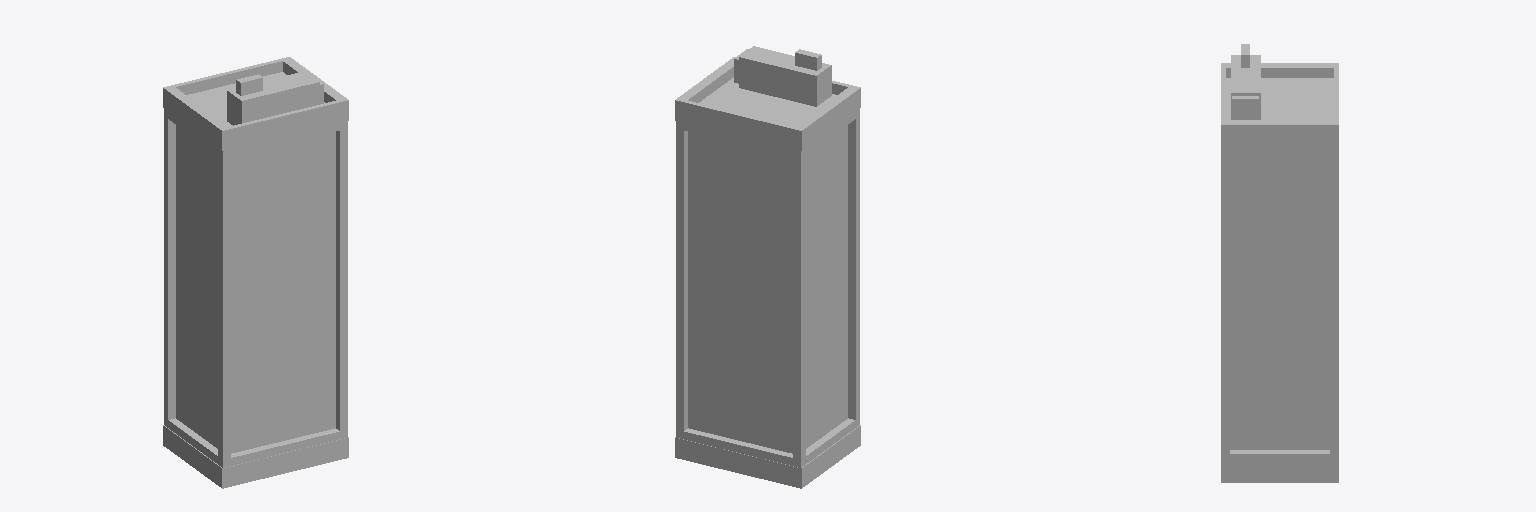
The picture shows the model from 3 angles: view 1: azimuth 30°, elevation 25°; view 2: azimuth 150°, elevation 25°; view 3: azimuth 270°, elevation 25°; orthographic projection.
Visible parts, largest first — view 1: Highrise_10; view 2: Highrise_10; view 3: Highrise_10.
Boxes of the visible parts, x1=… form: Highrise_10: x1=163, y1=57, x2=348, y2=488; Highrise_10: x1=675, y1=46, x2=860, y2=488; Highrise_10: x1=1221, y1=44, x2=1338, y2=482.
Size of the model in its own units: 188 by 554 by 153.